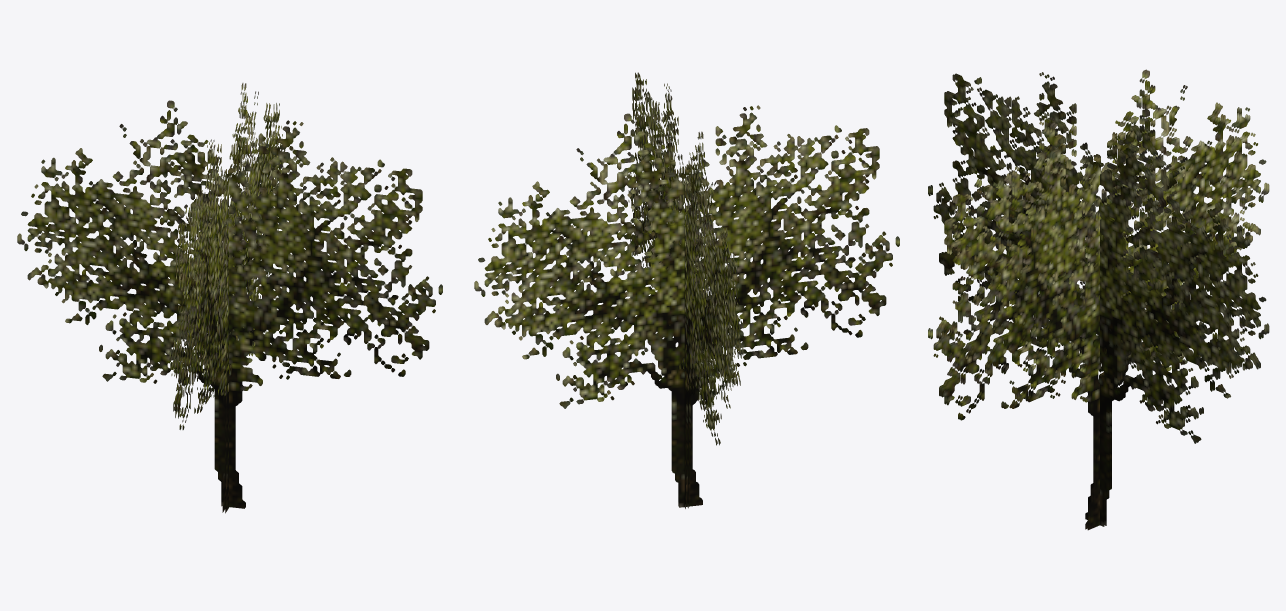
Rendered from tree023.fbx.
The picture shows the model from 3 angles, left to right: view 1: azimuth 30°, elevation 25°; view 2: azimuth 150°, elevation 25°; view 3: azimuth 270°, elevation 25°; orthographic projection. The views are drawn at different scales.
Parts seen in each view (by area): view 1: tree023; view 2: tree023; view 3: tree023.
Boxes of the visible parts, <box> form: tree023: <box>17,83,442,513</box>; tree023: <box>474,72,899,508</box>; tree023: <box>928,69,1269,530</box>.
Bounding box in the file's own units: 214 × 310 × 214.
Materials: 1 (1 with a texture image).
